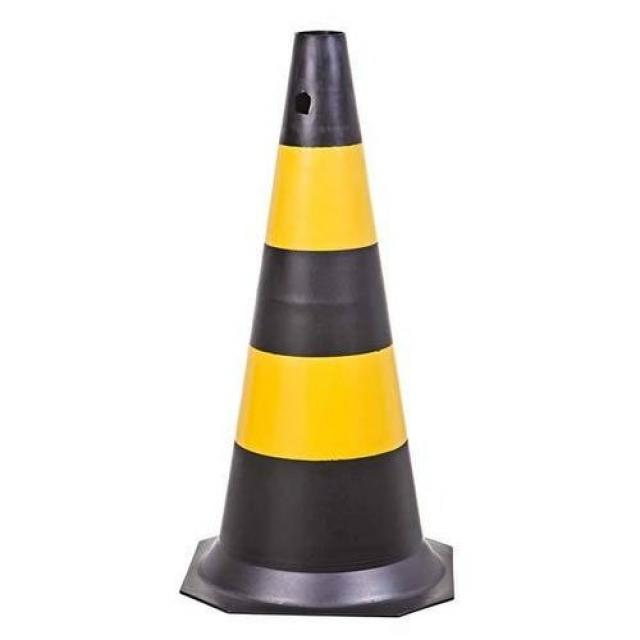cone: (184, 27, 459, 621)
